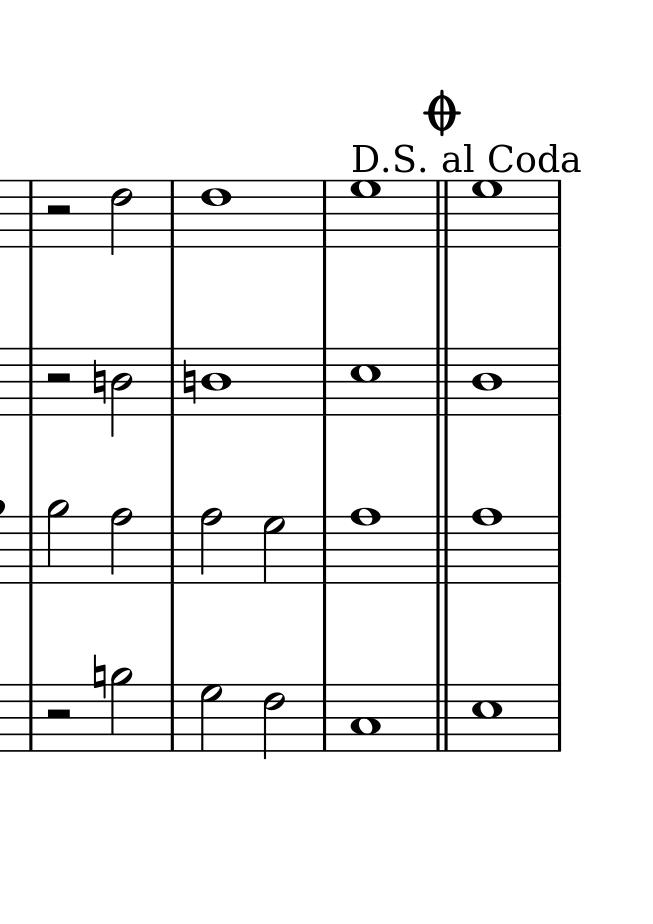1_3: (348, 681, 383, 754)
1_4: (198, 346, 236, 419), (470, 345, 502, 418)
1_5: (471, 680, 503, 754), (349, 346, 381, 418)
1_6: (202, 178, 233, 250)
1_7: (470, 177, 505, 250), (351, 179, 382, 250)
1_8: (469, 504, 505, 587), (348, 504, 382, 586)
2_4: (110, 346, 134, 438)
2_6: (262, 682, 288, 762), (109, 178, 133, 255)
2_7: (261, 516, 286, 587), (198, 684, 223, 752)
2_8: (109, 507, 140, 587), (198, 506, 227, 588)
2_9: (46, 500, 74, 585), (109, 665, 134, 754)
Coda: (424, 89, 462, 137)
DSalcoda: (349, 141, 587, 174)
Double_barline: (429, 683, 455, 751), (431, 349, 457, 415), (429, 517, 455, 583), (432, 180, 455, 248)
Natural: (91, 360, 108, 406), (182, 359, 198, 406), (92, 653, 107, 700)
Rests2: (42, 369, 75, 389), (44, 201, 75, 220), (44, 705, 75, 723)
Single_barline: (314, 683, 336, 751), (315, 349, 337, 415), (315, 515, 336, 584), (21, 348, 42, 416), (548, 347, 568, 415), (547, 515, 567, 583), (548, 683, 568, 751), (314, 180, 334, 247), (21, 683, 40, 753), (22, 515, 41, 584), (163, 683, 182, 752), (549, 179, 568, 248), (164, 515, 183, 583), (164, 180, 183, 247), (163, 347, 181, 415), (23, 181, 40, 247)
